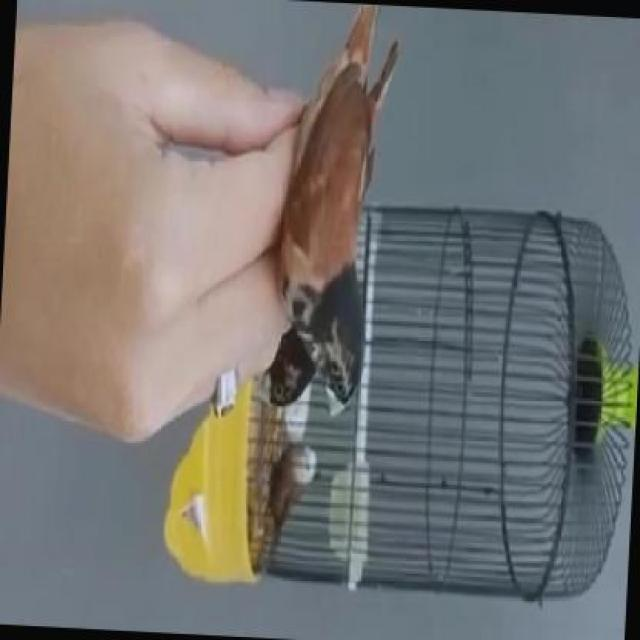Bird: (245, 8, 399, 404), (230, 435, 376, 543)
